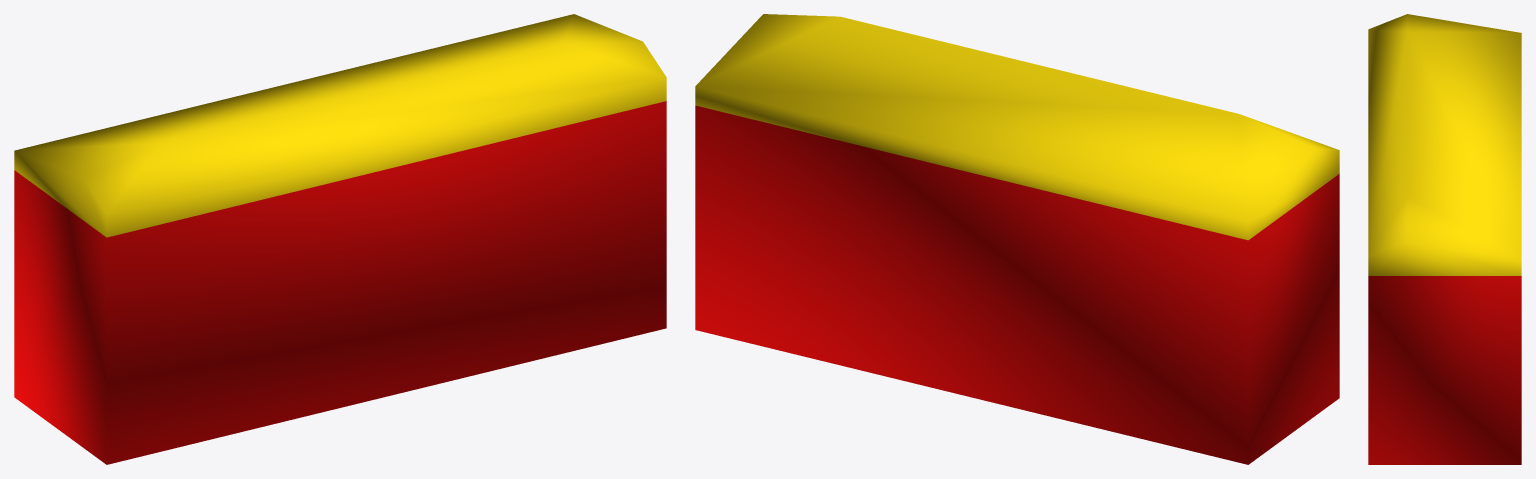
Rendered from KinoDomowe_glosnik1 mesh.FBX.
3 renders of one model, left to right at view 1: azimuth 30°, elevation 25°; view 2: azimuth 150°, elevation 25°; view 3: azimuth 270°, elevation 25°, orthographic. The views are drawn at different scales.
Parts seen in each view (by area): view 1: KinoDomowe_glosnik1 mesh; view 2: KinoDomowe_glosnik1 mesh; view 3: KinoDomowe_glosnik1 mesh.
Boxes of the visible parts, x1,y1,x2,y2 form: KinoDomowe_glosnik1 mesh: [14, 14, 666, 464]; KinoDomowe_glosnik1 mesh: [695, 14, 1339, 464]; KinoDomowe_glosnik1 mesh: [1368, 14, 1521, 464].
Size of the model in its own units: 0.35 by 0.1 by 0.1708.
